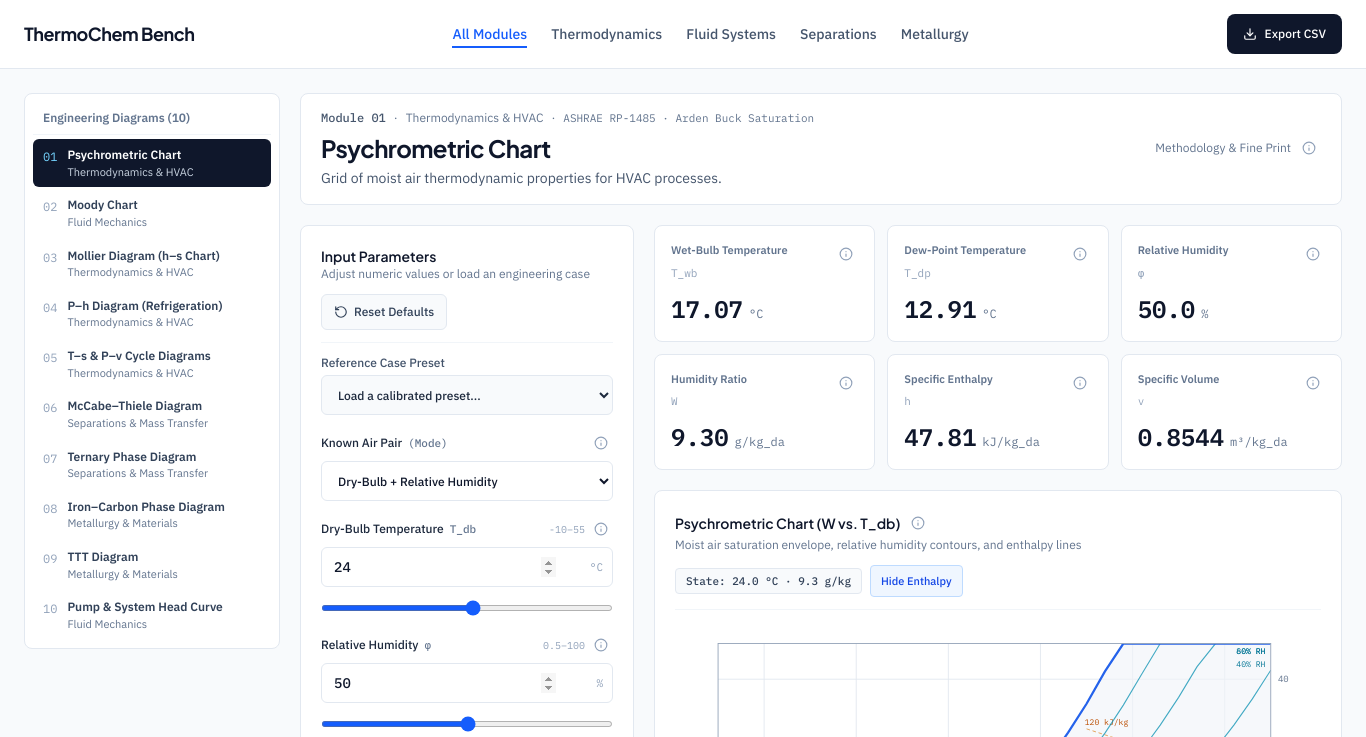
Test case: ThermoChem Bench — Integration Flows (Blue Pill & Red Pill) › Red Pill: displays validation alert and disables Export CSV on invalid physical input
Note: Navigate to McCabe-Thiele and enter reflux ratio below R_min
Click the button "Separations". click: {"x": 838, "y": 34}
box: [800, 20, 877, 48]
(page scrolled)
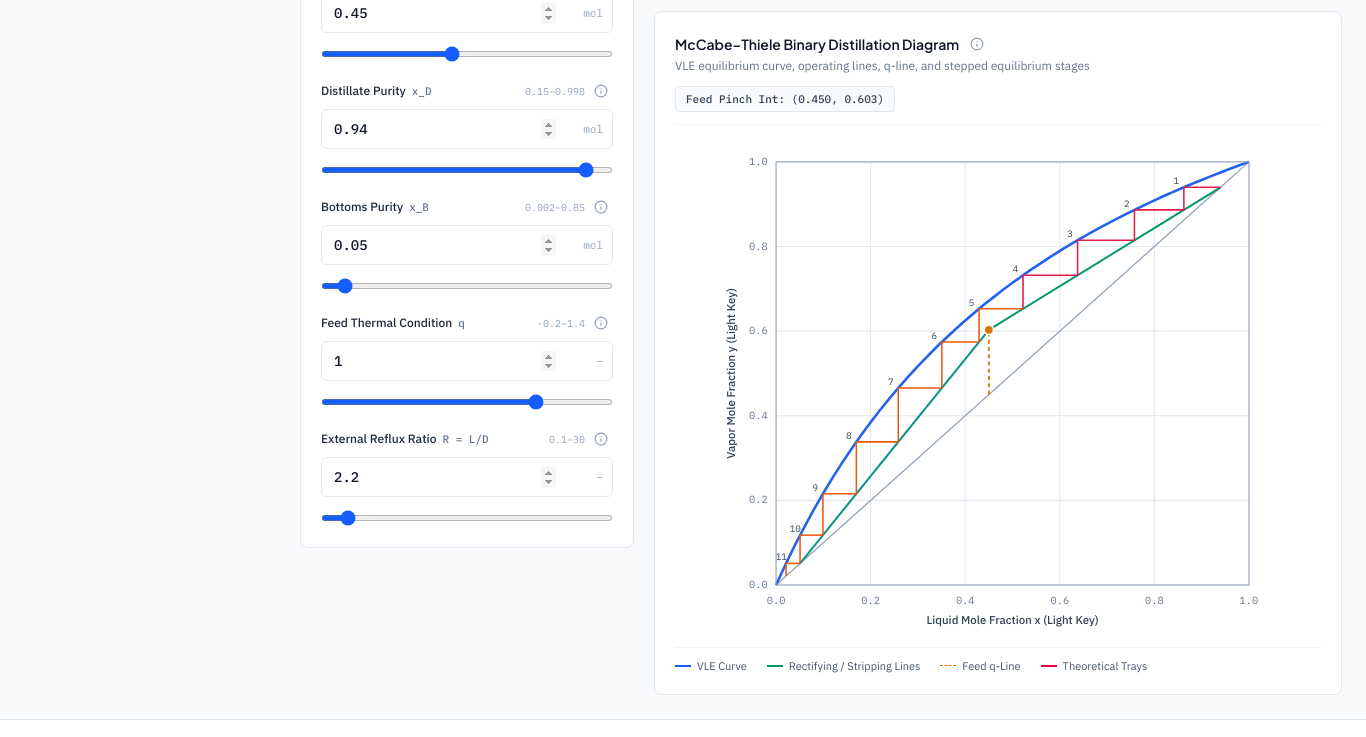
Clear the number field labelled "External Reflux Ratio". click: {"x": 467, "y": 477}
box: [321, 457, 613, 497]
(page scrolled)
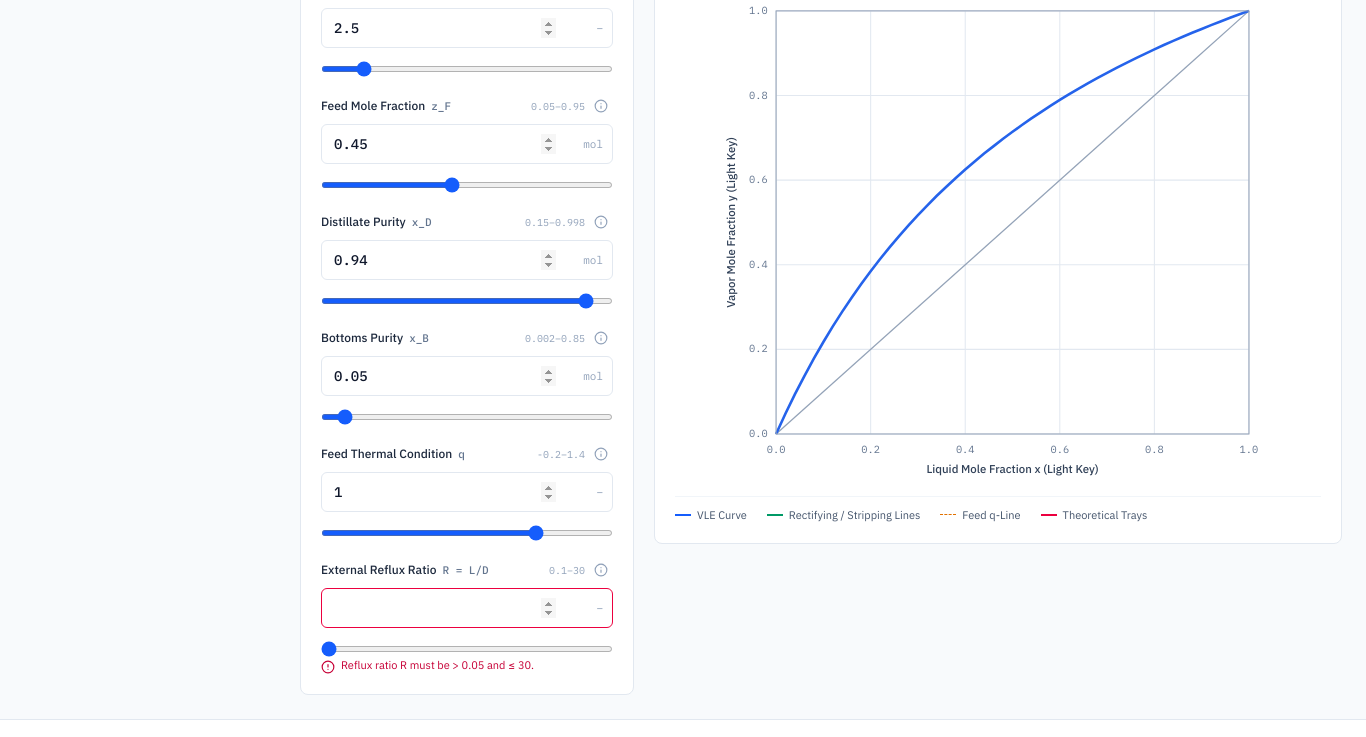
Type "0.3" into the number field labelled "External Reflux Ratio". click: {"x": 467, "y": 608}
box: [321, 588, 613, 628]
(page scrolled)
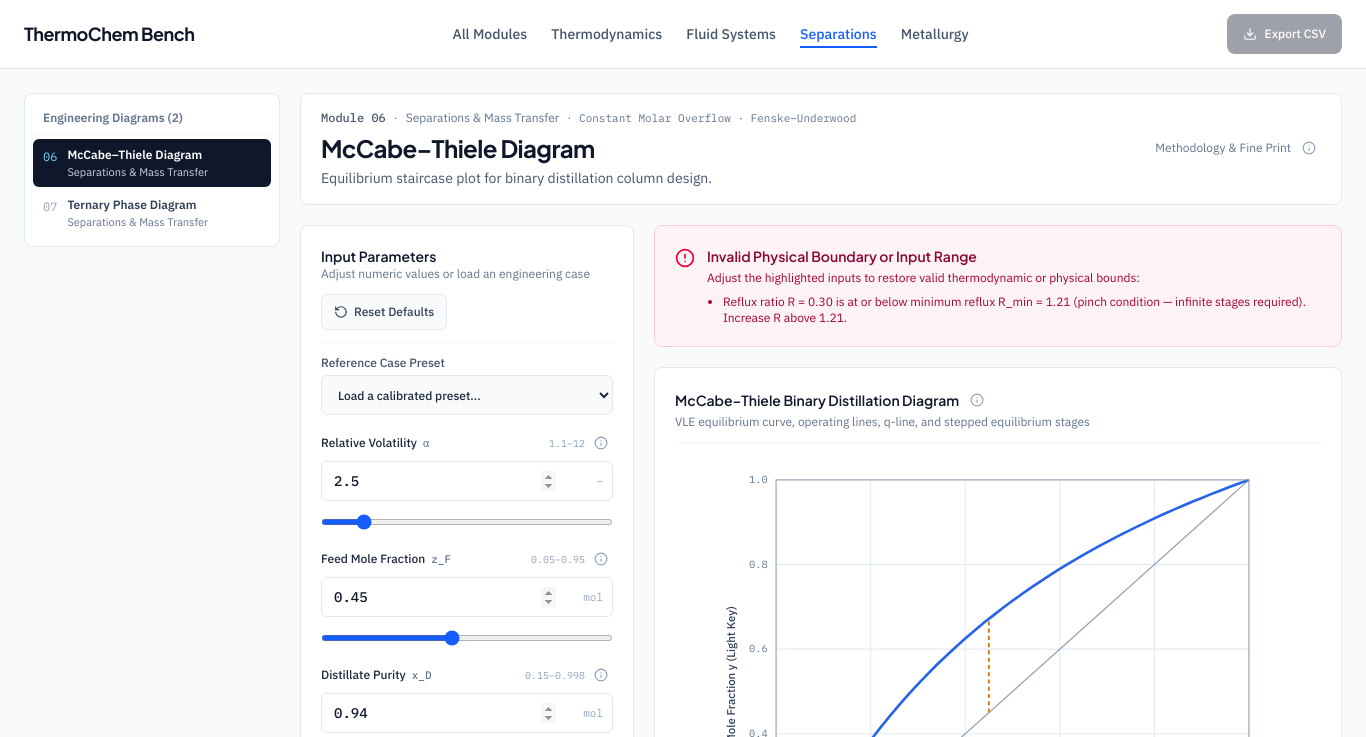
expect the button "Export CSV" is disabled: met, box [1227, 14, 1342, 54]
expect the message named "Calculation output error" shows "minimum reflux": met, box [723, 294, 1306, 325]
Note: Reset defaults restores valid state
Click the button "Reset Defaults". click: {"x": 384, "y": 312}
box: [321, 294, 447, 330]
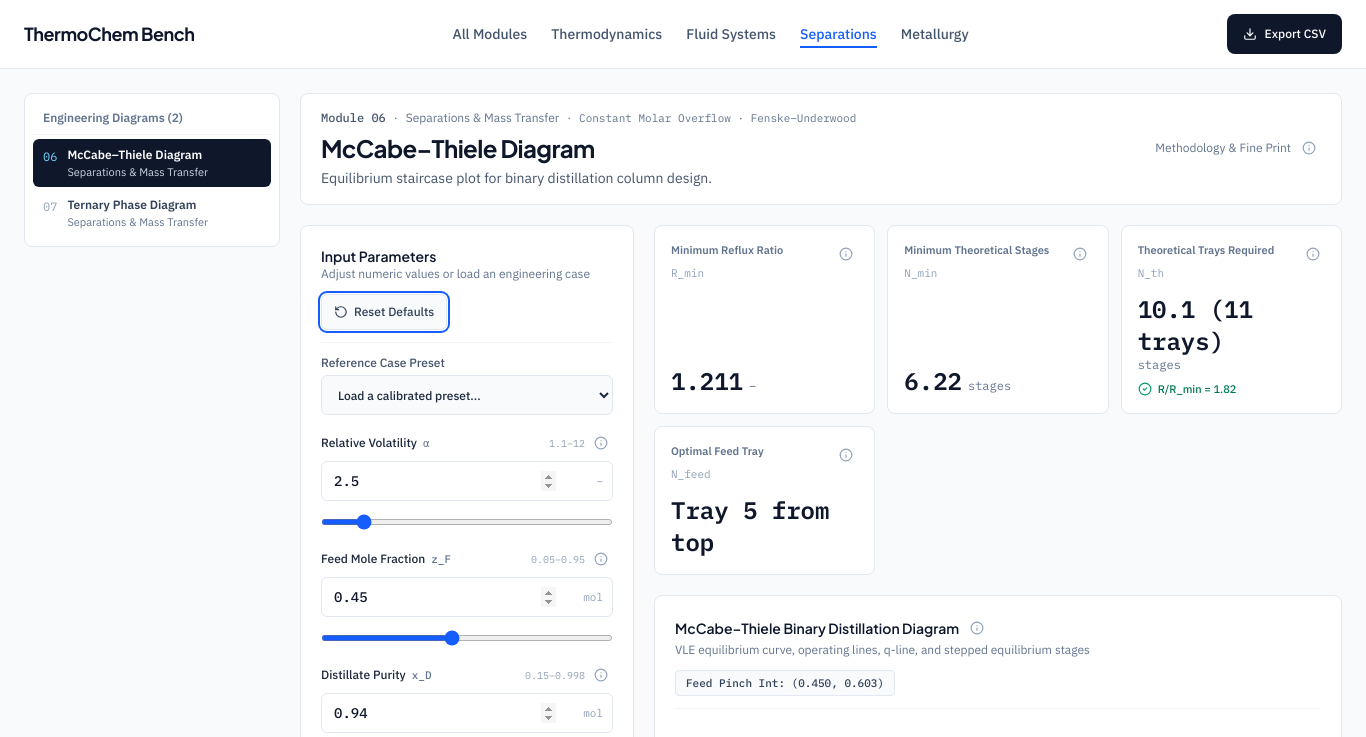
expect the element named "Calculated outputs" is shown: met, box [654, 225, 1342, 574]
expect the button "Export CSV" is enabled: met, box [1227, 14, 1342, 54]
